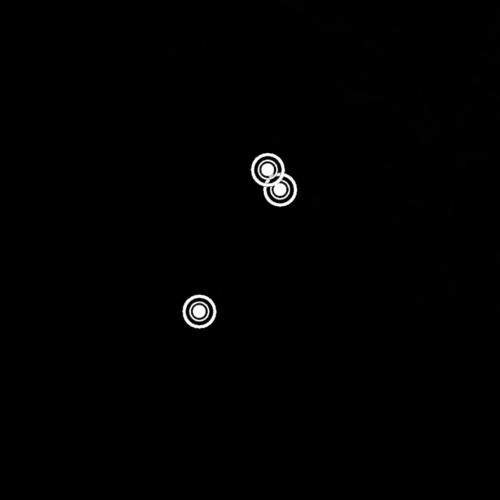canis_minor: (174, 148, 307, 338)
